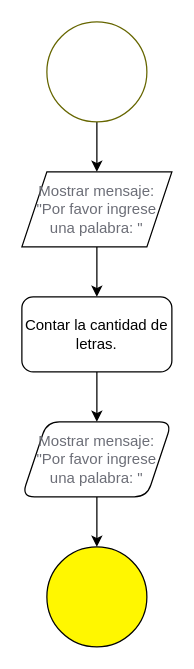
This 194x669 diagram has some shape labels left out. The shapes that lost their labels are listed below. From the top down, each one's centre as x and y in pixels, then its label:
At [96,71]: "INICIO".
At [96,596]: "FIN".
